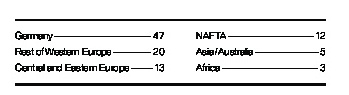table: (0, 0, 349, 95)
